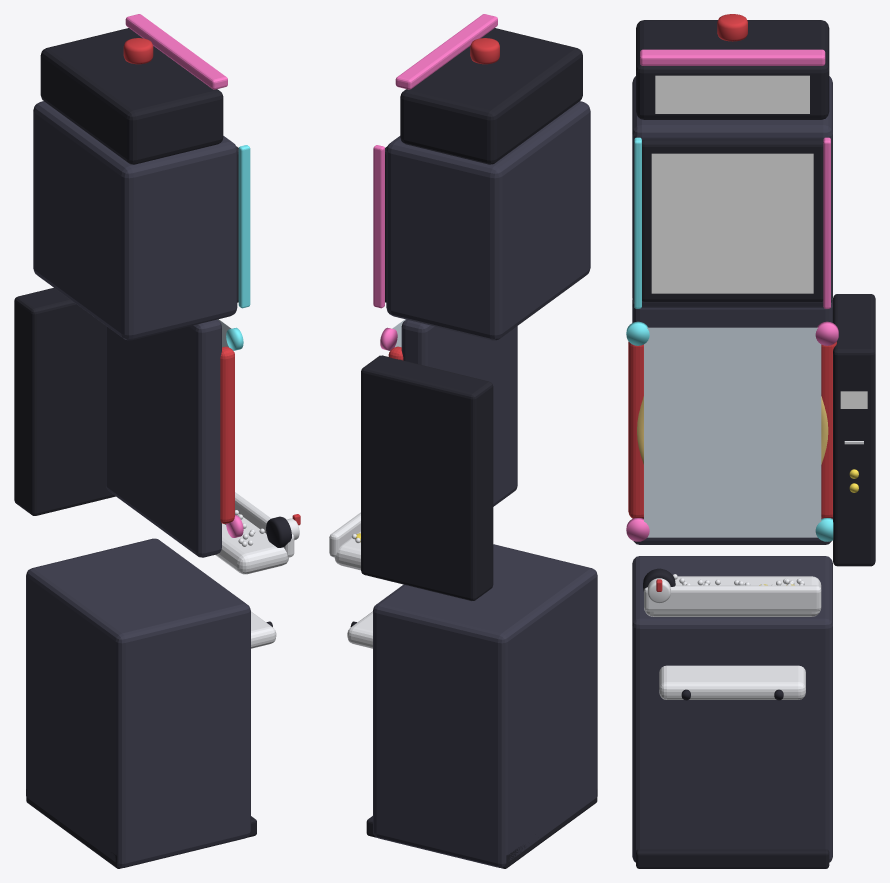
File: macchina_pachinko.glb
3 renders of one model, left to right at view 1: azimuth 30°, elevation 25°; view 2: azimuth 150°, elevation 25°; view 3: azimuth 270°, elevation 25°, orthographic. The views are drawn at different scales.
Parts seen in each view (by area): view 1: macchina_pachinko; view 2: macchina_pachinko; view 3: macchina_pachinko.
Part boxes in pixels (bbox=[...]): macchina_pachinko: bbox=[14, 14, 300, 868]; macchina_pachinko: bbox=[329, 14, 597, 868]; macchina_pachinko: bbox=[626, 14, 875, 868].
Bounding box in the file's own units: 0.605 × 2.33 × 0.645.
